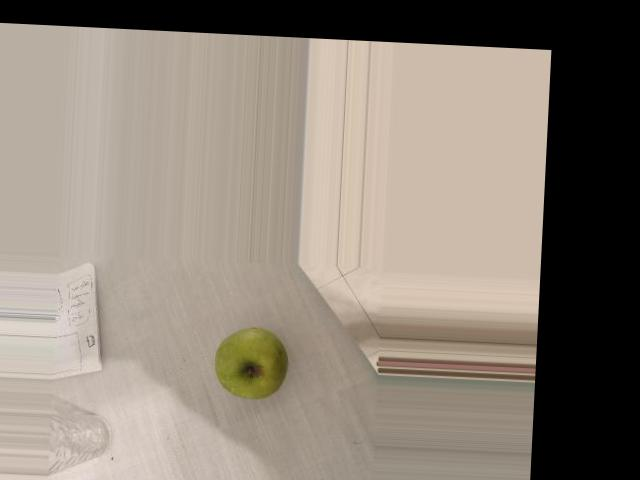apple: (201, 313, 329, 410)
